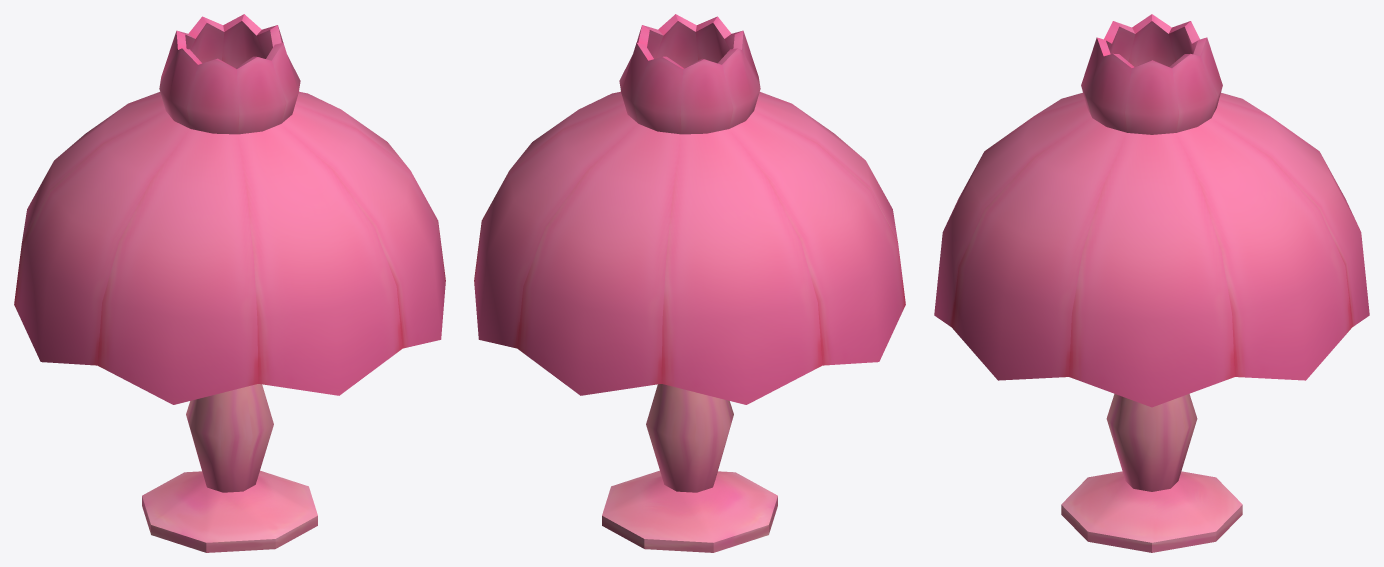
File: GirlyLamp_HD.fbx
3 renders of one model, left to right at view 1: azimuth 30°, elevation 25°; view 2: azimuth 150°, elevation 25°; view 3: azimuth 270°, elevation 25°, orthographic.
Parts seen in each view (by area): view 1: GirlyLamp; view 2: GirlyLamp; view 3: GirlyLamp.
Part boxes in pixels (left/top/right/bottom): GirlyLamp: left=14, top=14, right=445, bottom=552; GirlyLamp: left=474, top=14, right=905, bottom=552; GirlyLamp: left=934, top=14, right=1369, bottom=552.
Bounding box in the file's own units: 0.4537 × 0.5486 × 0.4537.
